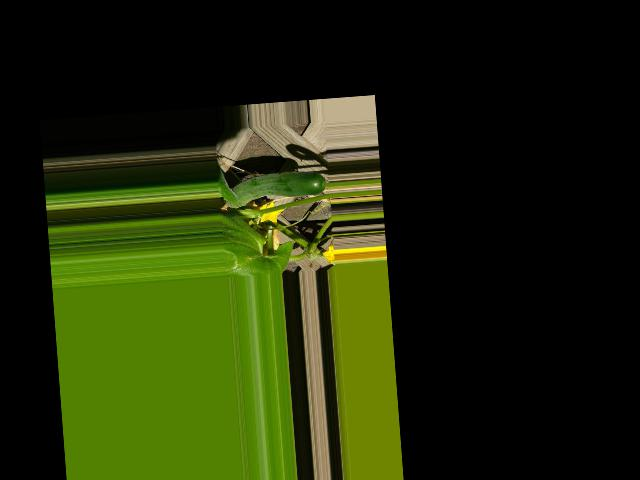cucumber: (218, 168, 325, 209)
